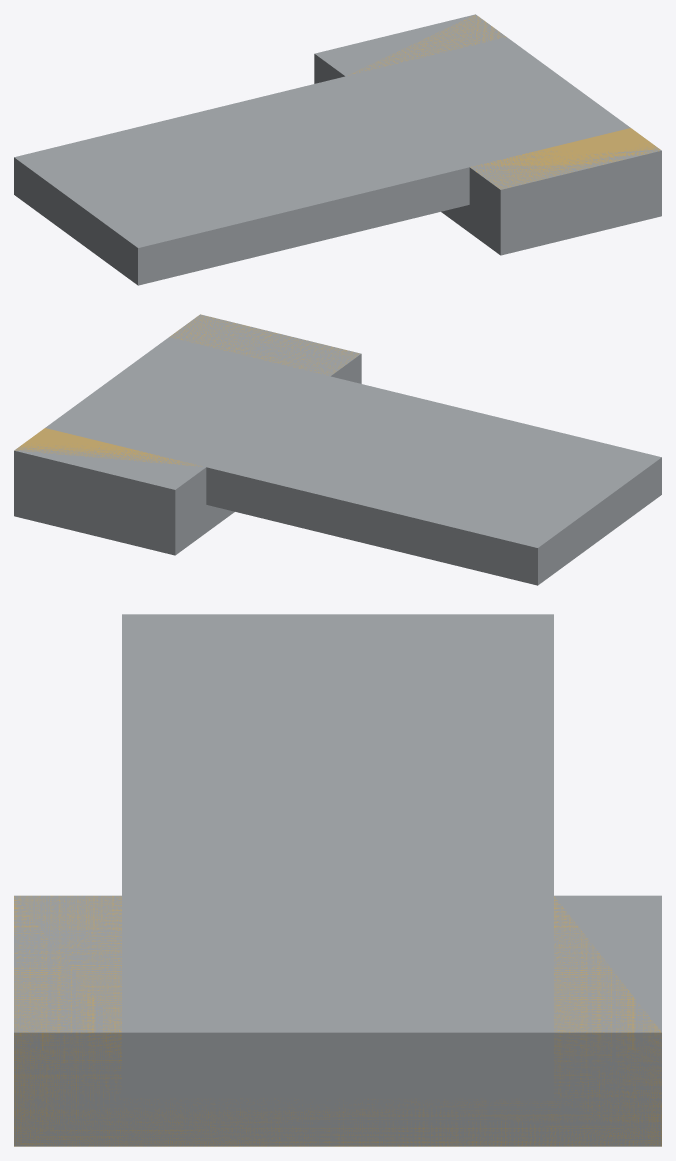
The model's file is step_02.glb.
3 renders of one model, top to bottom at view 1: azimuth 30°, elevation 25°; view 2: azimuth 150°, elevation 25°; view 3: azimuth 270°, elevation 25°, orthographic. The views are drawn at different scales.
Parts seen in each view (by area): view 1: part__belt tongue, added__belt tongue; view 2: part__belt tongue, added__belt tongue; view 3: part__belt tongue, added__belt tongue.
Boxes of the visible parts, x1,y1,x2,y2 form: part__belt tongue: [14, 14, 661, 285]; added__belt tongue: [348, 15, 660, 189]; part__belt tongue: [14, 314, 661, 585]; added__belt tongue: [15, 314, 358, 466]; part__belt tongue: [14, 614, 661, 1146]; added__belt tongue: [14, 895, 661, 1146].
Bounding box in the file's own units: 55 × 7 × 36.
